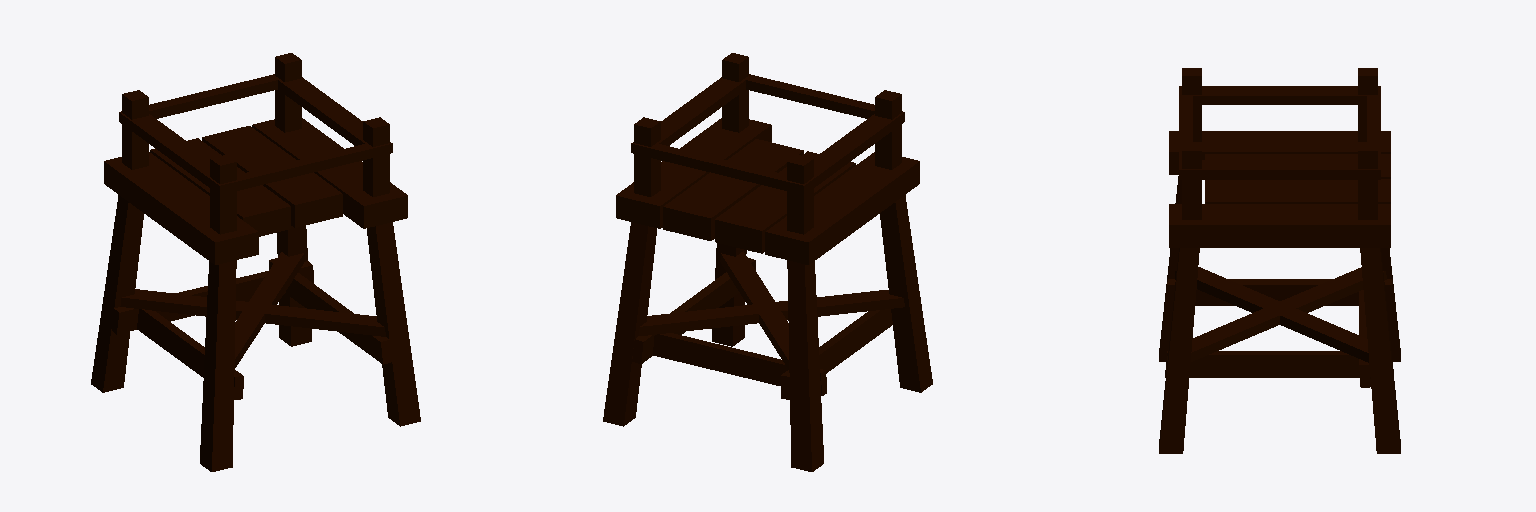
The model's file is ArrowTower.obj.
3 renders of one model, left to right at view 1: azimuth 30°, elevation 25°; view 2: azimuth 150°, elevation 25°; view 3: azimuth 270°, elevation 25°, orthographic.
Visible parts, largest first — view 1: DesertTower_Cube.115; view 2: DesertTower_Cube.115; view 3: DesertTower_Cube.115.
Boxes of the visible parts, box(x1,y1,x2,y2) form: DesertTower_Cube.115: box(91, 53, 420, 471); DesertTower_Cube.115: box(603, 53, 932, 471); DesertTower_Cube.115: box(1159, 68, 1400, 453).
Bounding box in the file's own units: 3.84 × 5.14 × 3.84.